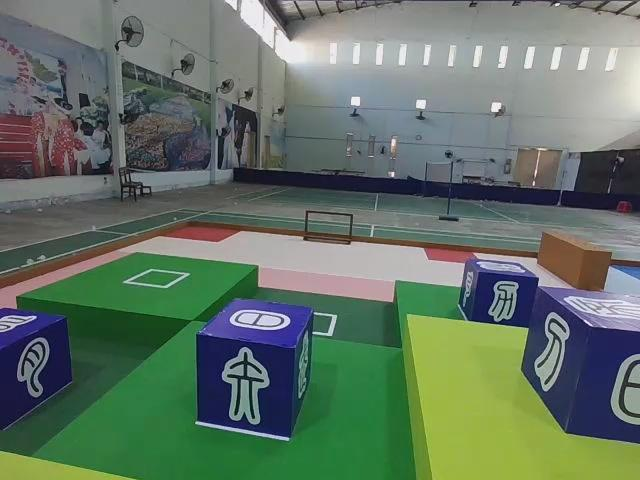R2 Fake Blue: (519, 286, 638, 452), (198, 299, 317, 445), (0, 311, 72, 435), (458, 257, 541, 329)
